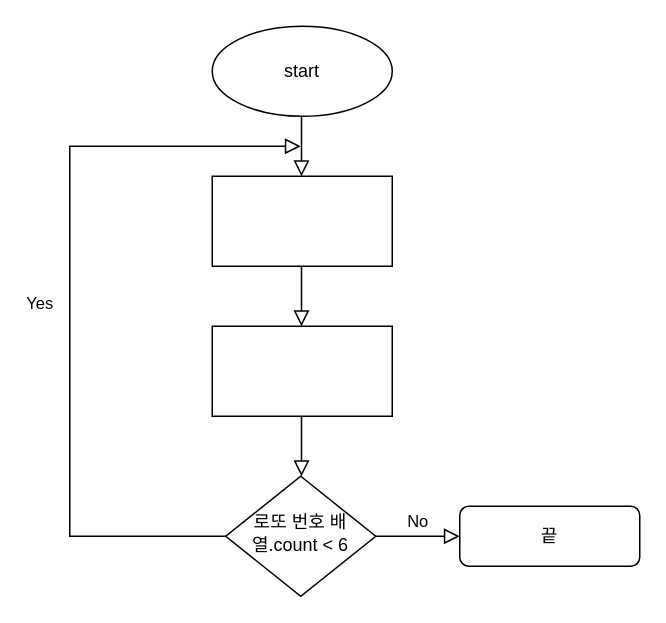
Image size: 666x623. Some labels were removed from this diagram. The centre of each missing label's shape, as x and y in pixels:
1~45사이의 수를 랜덤 추출합니다.: point (301, 220)
추출한 수를 로또 번호 배열에 넣습니다: point (301, 370)
